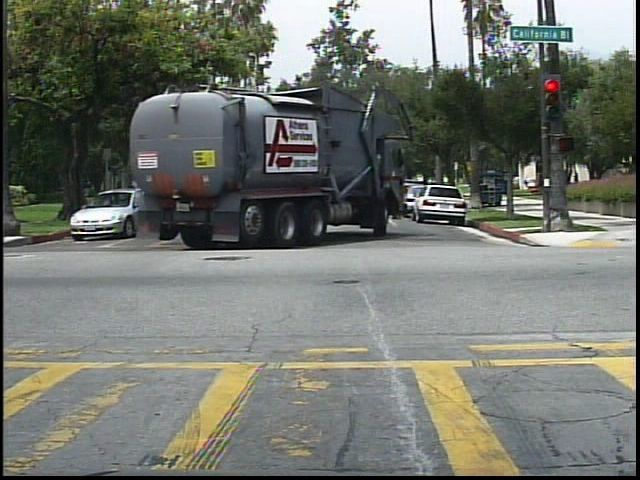person: (567, 165, 585, 196)
